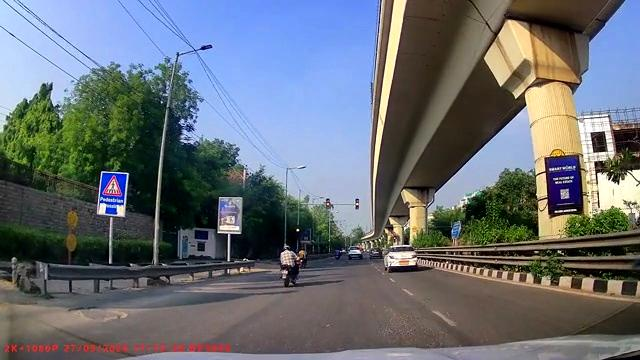motorcycle_with_helmet: (279, 243, 300, 288)
